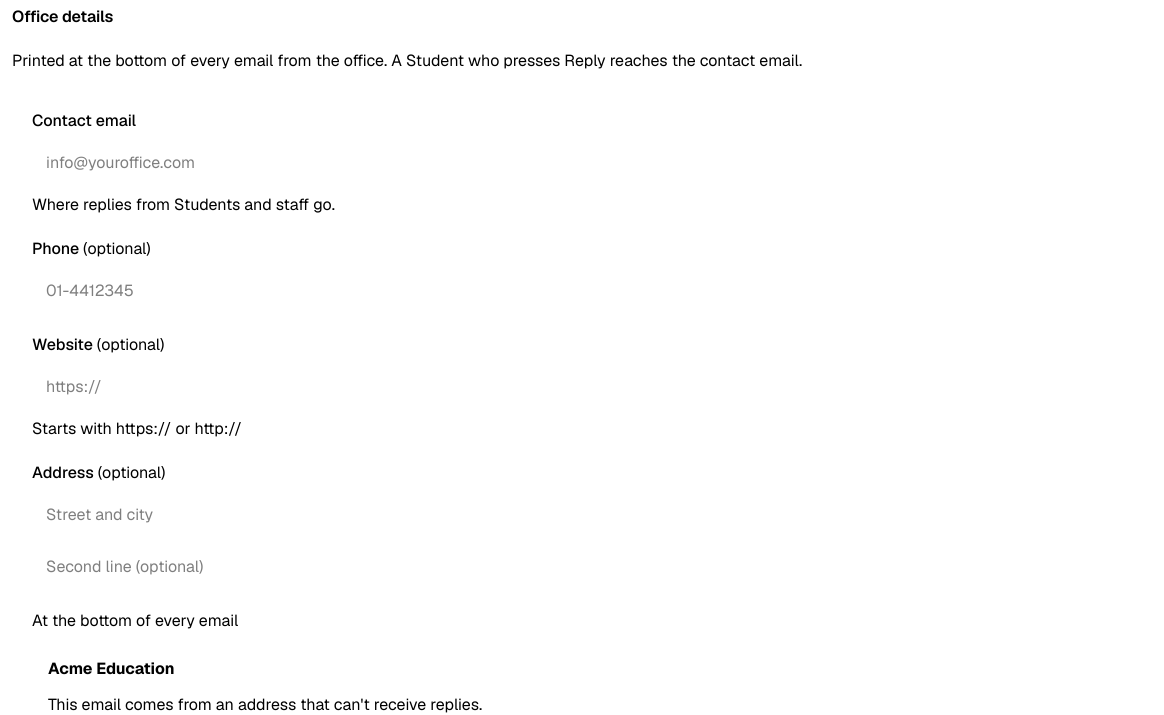
OfficeDetailsSettings › says so when saving fails, and keeps what was typed
Type "info@acme.com" into the field labelled "Contact email" at point(588, 163), box [32,141,1144,185]
(page scrolled)
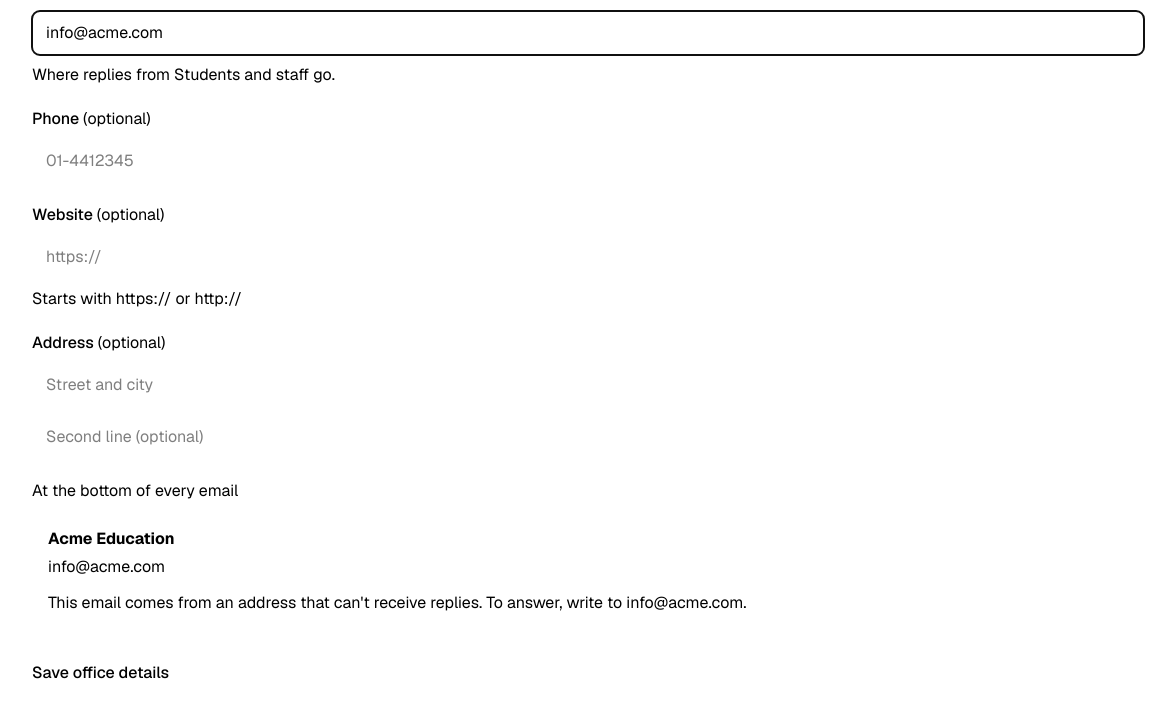
Click the button "Save office details" at point(101, 673), box [32,651,169,695]
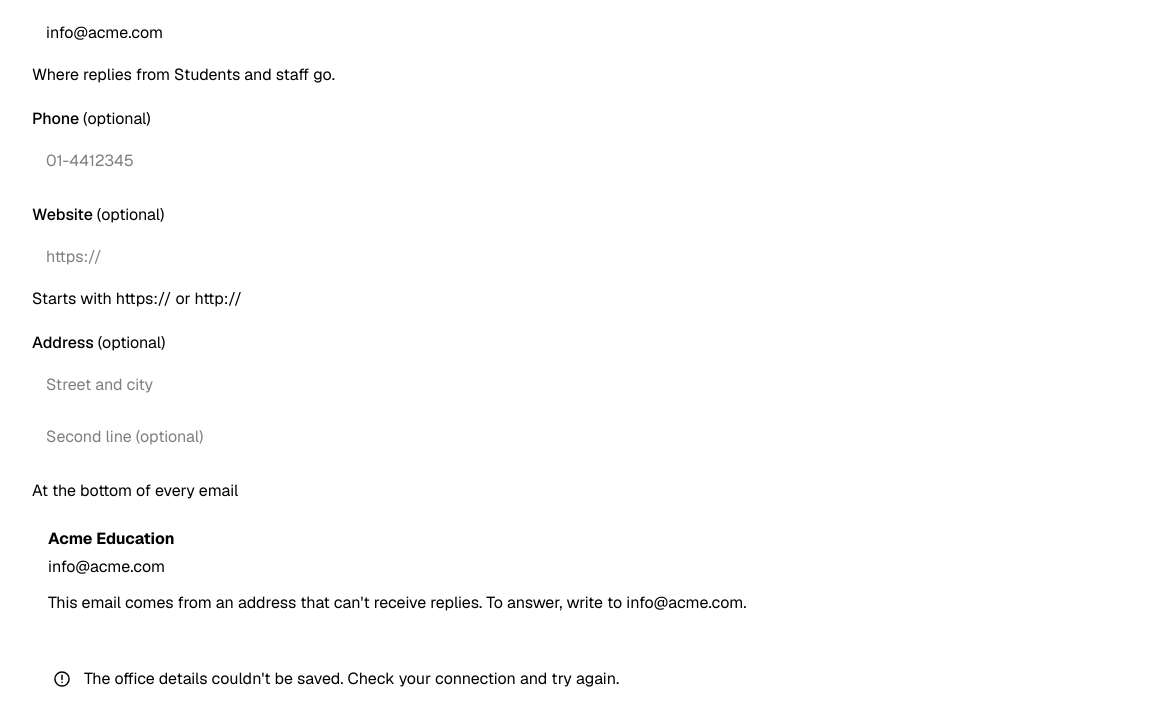
Expected: the text "The office details couldn't be saved. Check your connection and try again." is shown, [84,667,619,691]
